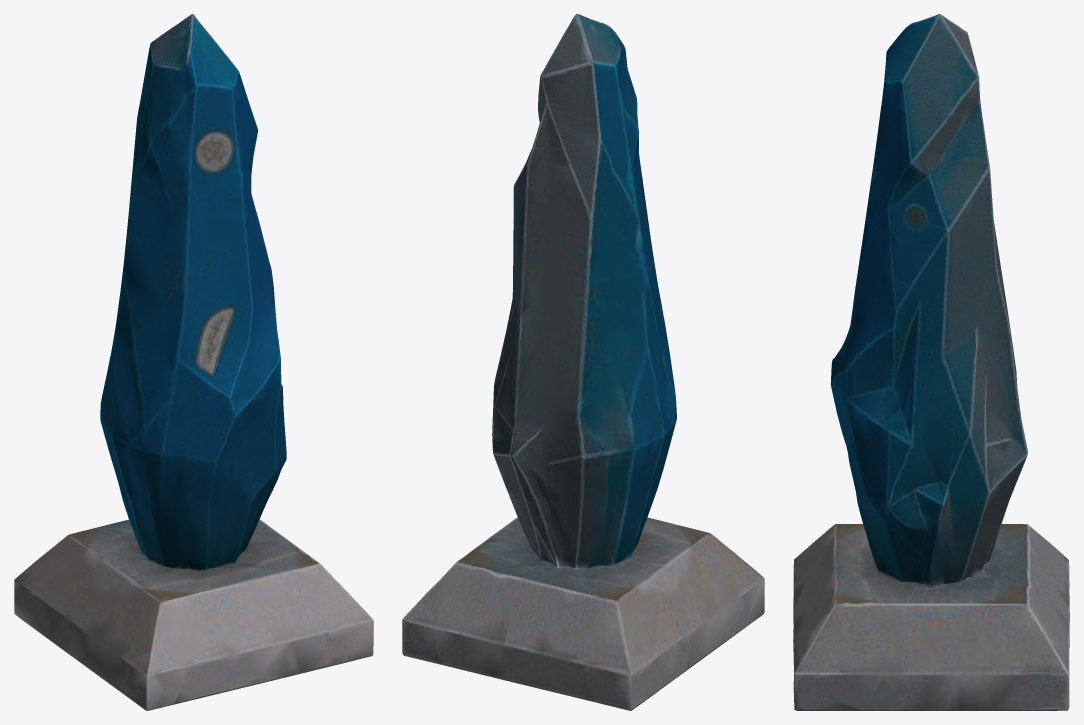
File: poCrystalBlue.f51e02e5.glb
3 views of the same model, side by side, from view 1: azimuth 30°, elevation 25°; view 2: azimuth 150°, elevation 25°; view 3: azimuth 270°, elevation 25° (orthographic). The views are drawn at different scales.
Bounding box in the file's own units: 0.7355 × 1.9 × 0.7439.
1 material, 1 textured.
